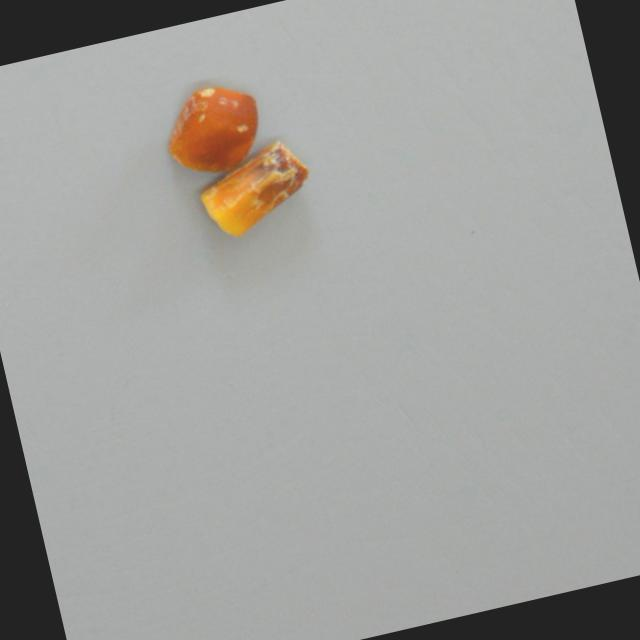dañado: (191, 138, 322, 247), (150, 71, 271, 187)
